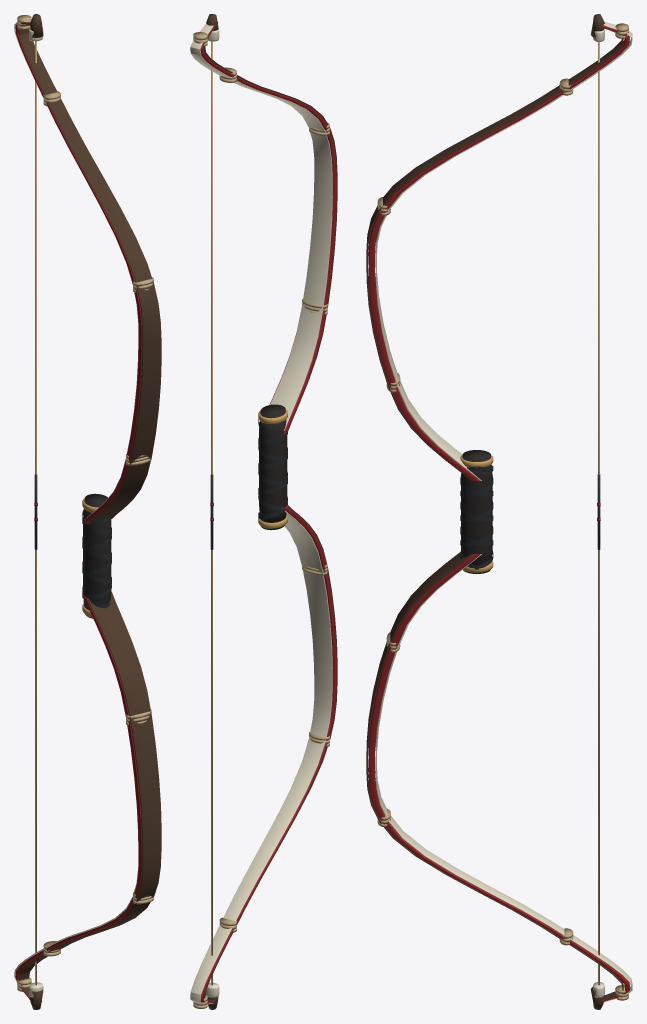
The model's file is weapon_ming_gong.glb.
3 views of the same model, side by side, from view 1: azimuth 30°, elevation 25°; view 2: azimuth 150°, elevation 25°; view 3: azimuth 270°, elevation 25° (orthographic).
Visible parts, largest first — view 1: Authored_ming_gong; view 2: Authored_ming_gong; view 3: Authored_ming_gong.
Boxes of the visible parts, x1,y1,x2,y2 form: Authored_ming_gong: (14,14,161,1009); Authored_ming_gong: (190,14,337,1009); Authored_ming_gong: (366,14,632,1009).
Size of the model in its own units: 0.0399 by 1.46 by 0.3556.
